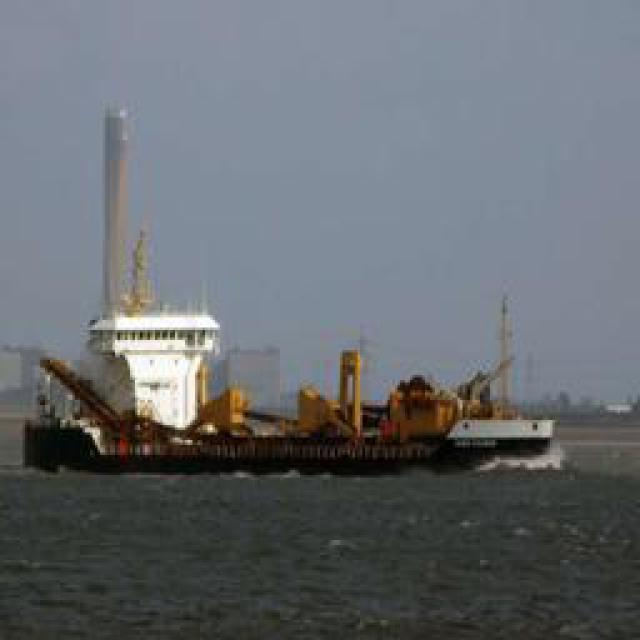Ship: (39, 360, 549, 473)
